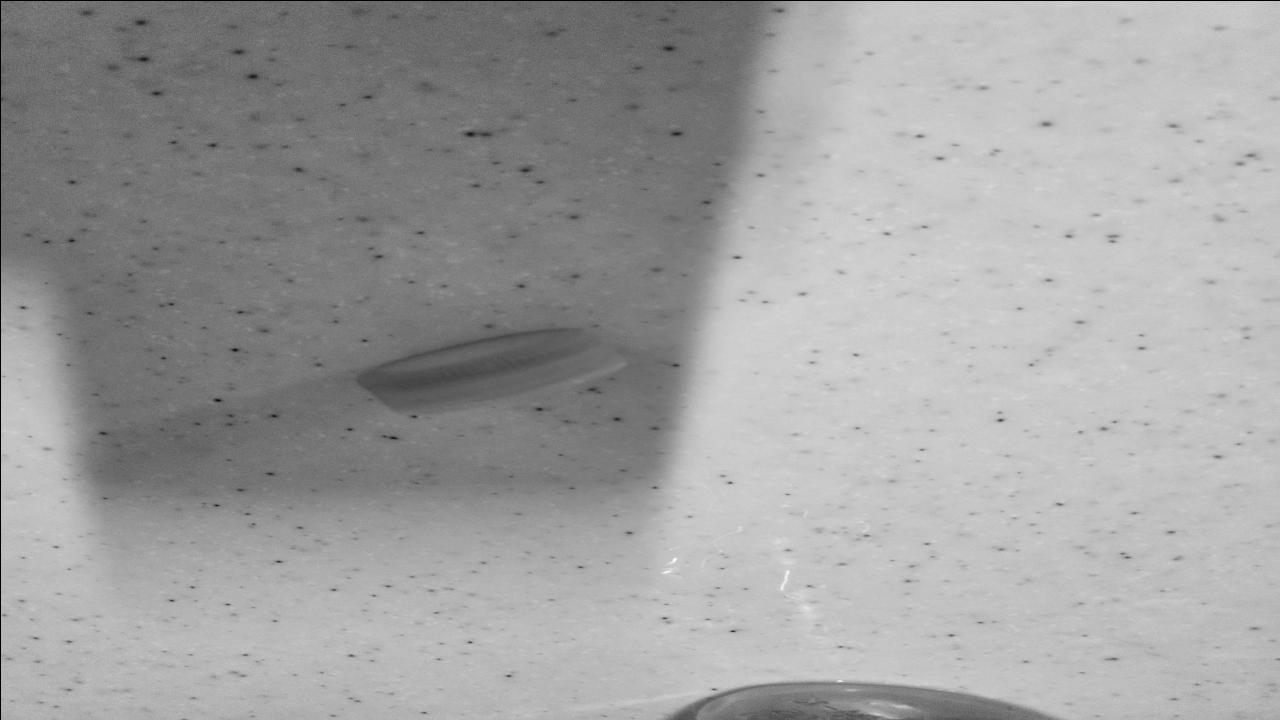bottle_cap: (344, 325, 636, 420)
